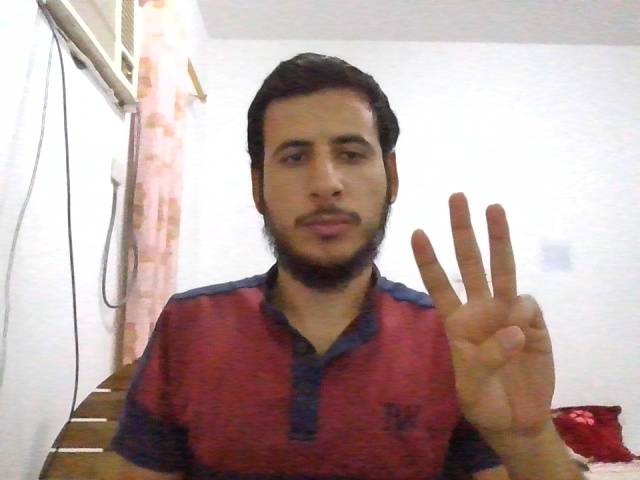Three: (411, 193, 556, 428)
